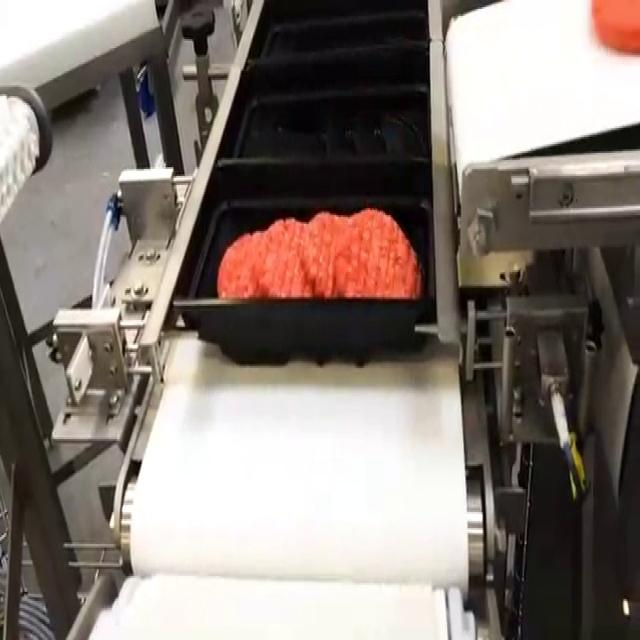4-hamburguer: (218, 208, 421, 299)
